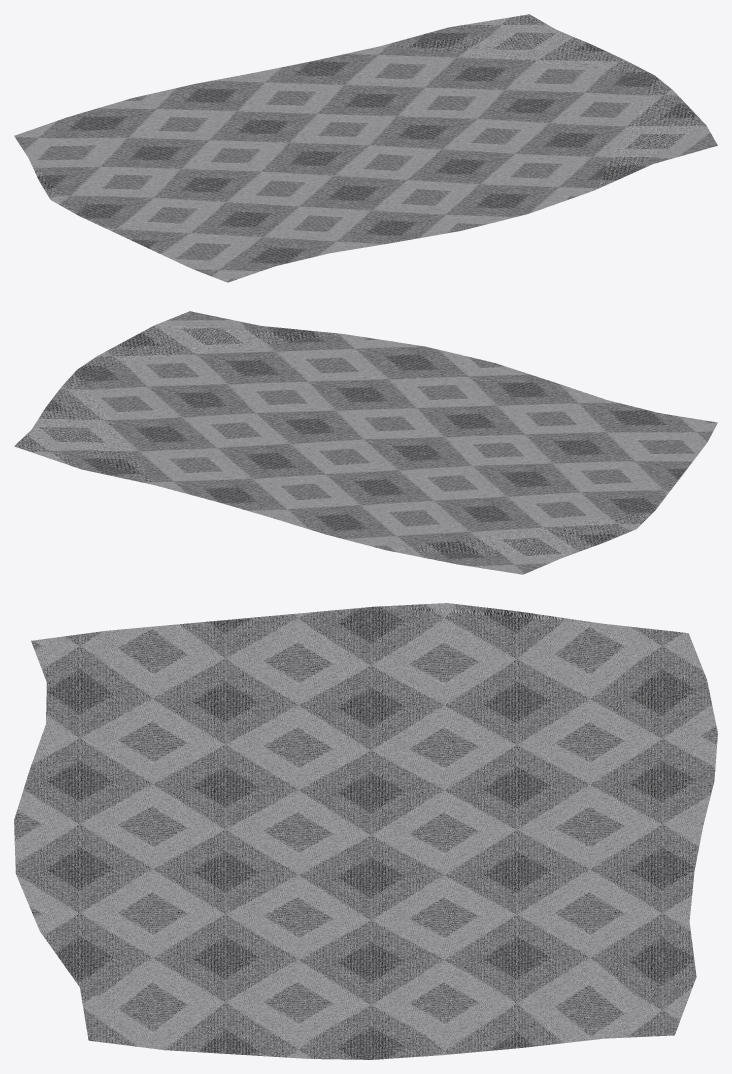
The model's file is CArpet.fbx.
3 views of the same model, one above another, from view 1: azimuth 30°, elevation 25°; view 2: azimuth 150°, elevation 25°; view 3: azimuth 270°, elevation 25° (orthographic). The views are drawn at different scales.
Visible parts, largest first — view 1: Plane; view 2: Plane; view 3: Plane.
Part boxes in pixels (bbox=[...]): Plane: bbox=[14, 14, 717, 282]; Plane: bbox=[14, 311, 717, 574]; Plane: bbox=[14, 603, 717, 1059].
Size of the model in its own units: 606 by 6.43e-05 by 395.
